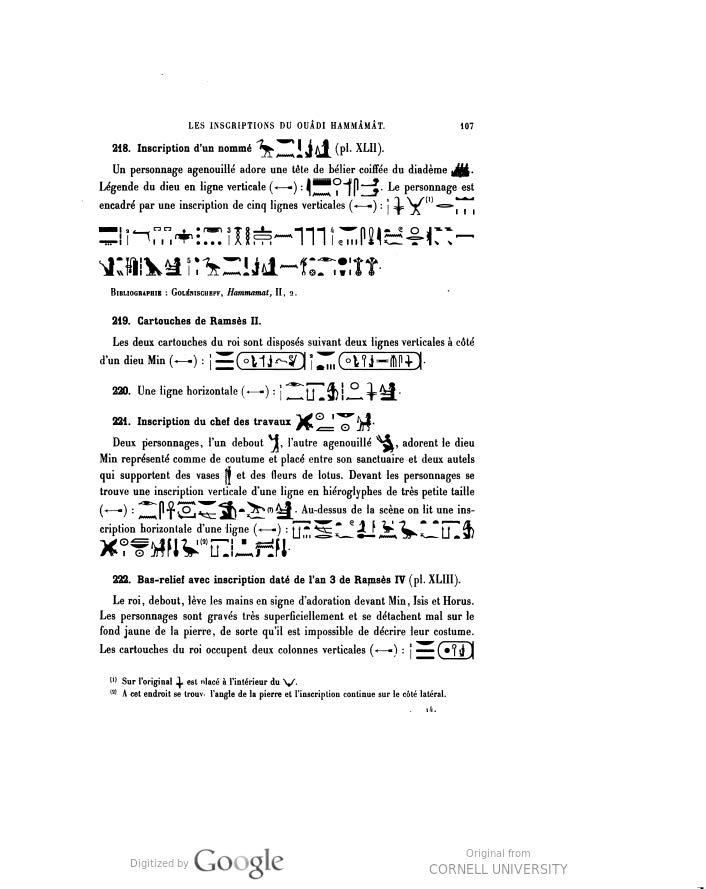circle: (321, 343, 439, 376), (433, 622, 486, 672), (232, 345, 317, 376)
